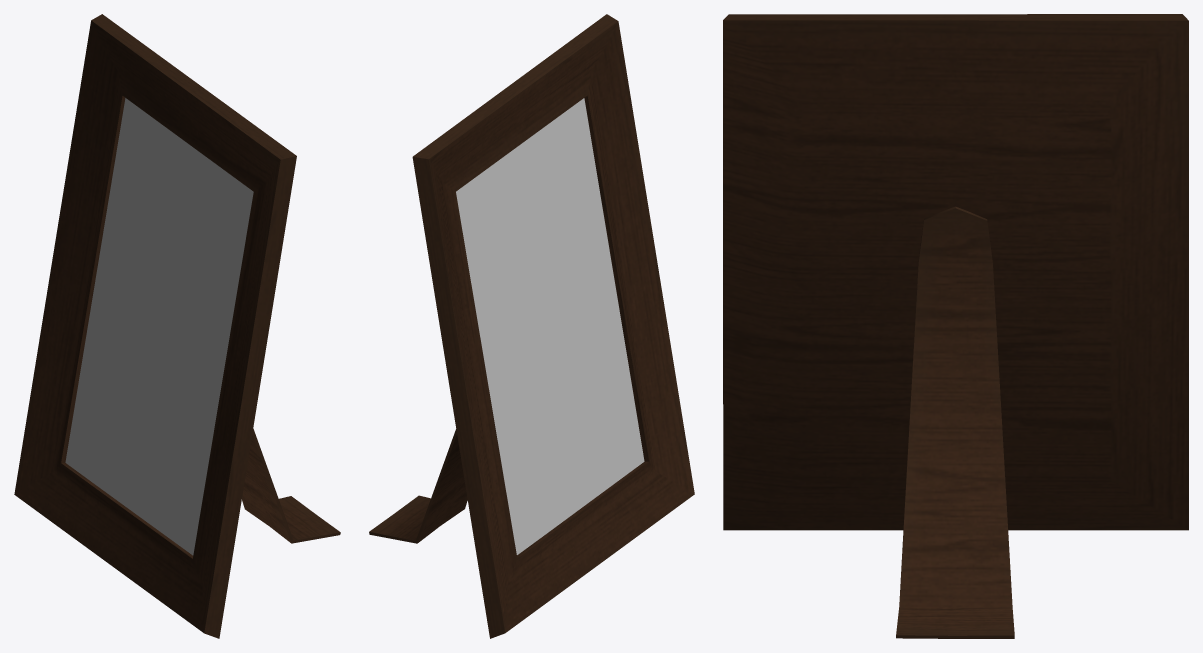
The model's file is SM_Photo_A4.fbx.
The picture shows the model from 3 angles, left to right: view 1: azimuth 30°, elevation 25°; view 2: azimuth 150°, elevation 25°; view 3: azimuth 270°, elevation 25°; orthographic projection. The views are drawn at different scales.
Visible parts, largest first — view 1: SM_Photo_A4; view 2: SM_Photo_A4; view 3: SM_Photo_A4.
Part boxes in pixels (box(x1,y1,x2,y2)): SM_Photo_A4: box(14, 14, 340, 638); SM_Photo_A4: box(369, 14, 694, 638); SM_Photo_A4: box(723, 14, 1188, 638).
Bounding box in the file's own units: 9.38 × 15.31 × 20.14.
Materials: 3 (2 with a texture image).
